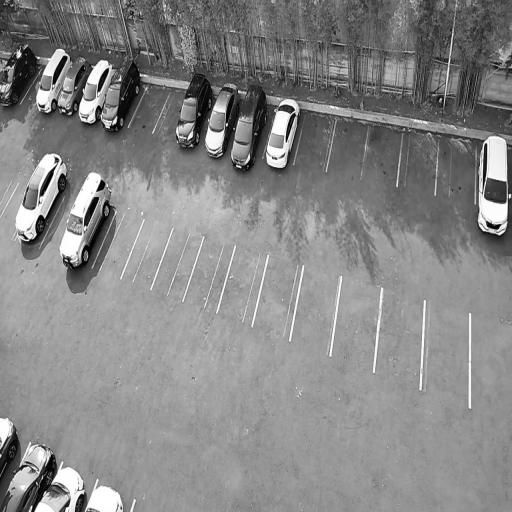Car: (54, 164, 119, 275), (10, 143, 74, 249), (0, 438, 62, 512), (226, 80, 273, 176), (96, 48, 146, 136), (171, 67, 218, 155), (260, 87, 306, 175), (475, 131, 512, 237), (199, 76, 244, 162), (32, 459, 95, 512), (75, 53, 117, 126), (0, 38, 44, 107), (32, 42, 73, 115), (54, 52, 95, 117), (0, 413, 26, 491), (79, 479, 133, 512)
Space Available: (420, 299, 471, 407), (374, 289, 424, 389), (330, 277, 382, 370), (289, 264, 341, 355), (252, 255, 304, 341), (217, 245, 268, 327), (183, 236, 235, 312), (151, 227, 204, 299), (121, 218, 174, 289), (92, 209, 145, 278), (361, 123, 403, 187), (326, 116, 369, 178), (397, 132, 440, 194), (293, 110, 337, 170), (437, 136, 476, 202), (129, 83, 170, 132), (40, 194, 74, 252), (153, 90, 185, 137), (0, 180, 28, 233), (19, 65, 46, 106)
